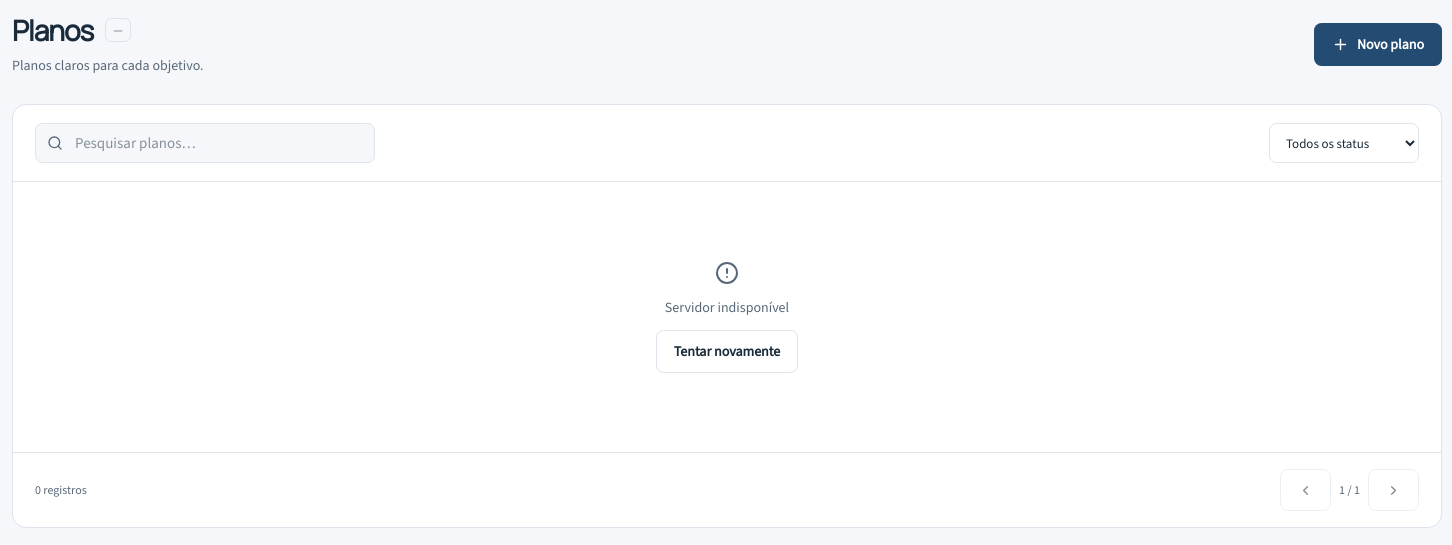
Test case: plans › mostra falha de consulta e oferece recuperação
Expected: the text "Servidor indisponível" is shown, [665, 297, 789, 318]
Step 1. Click the button "Tentar novamente" → click(727, 352), box [656, 330, 798, 373]
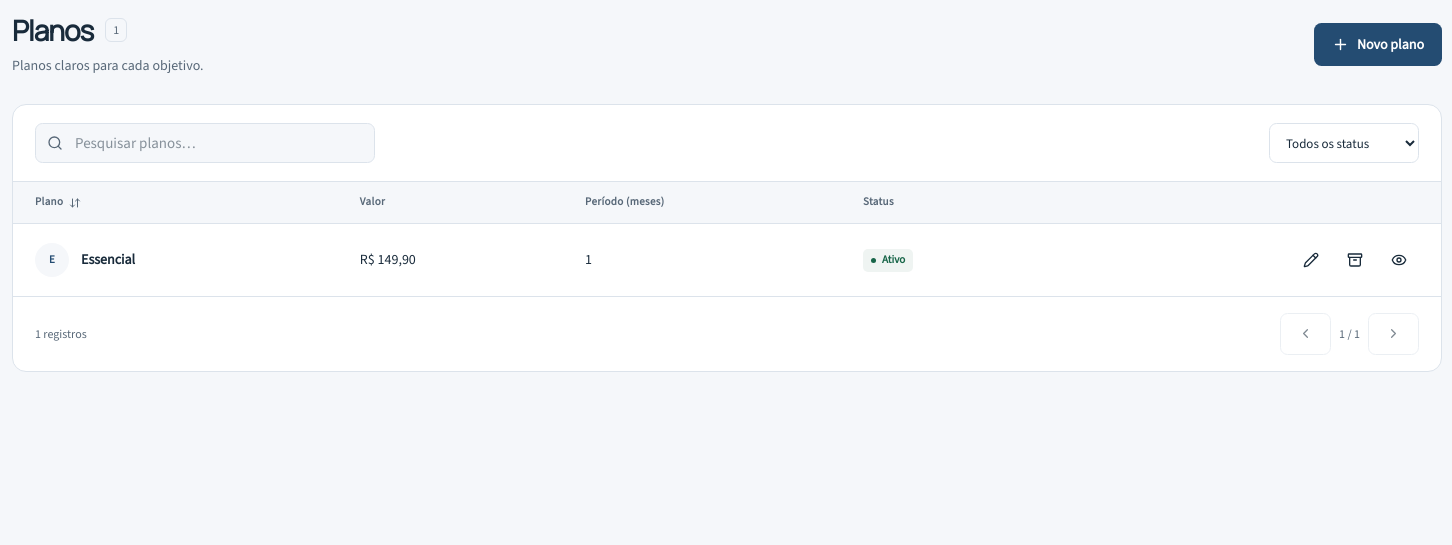
Now the table is shown, box [13, 182, 1441, 296]
